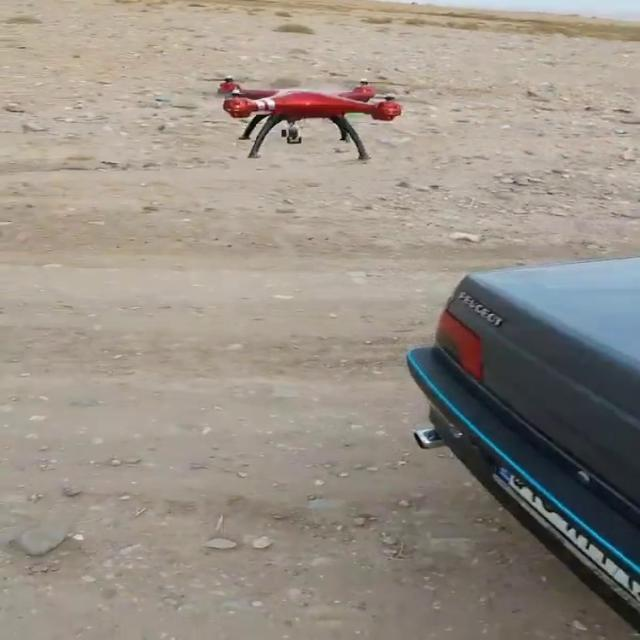drone: (204, 74, 415, 166)
